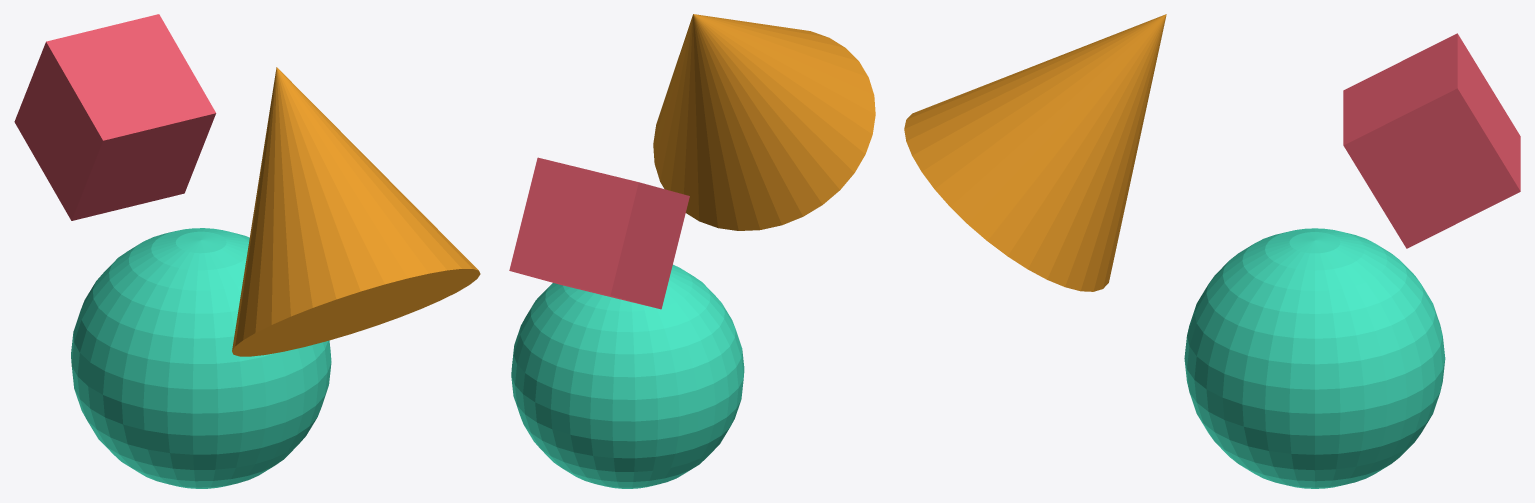
The picture shows the model from 3 angles, left to right: view 1: azimuth 30°, elevation 25°; view 2: azimuth 150°, elevation 25°; view 3: azimuth 270°, elevation 25°; orthographic projection. The views are drawn at different scales.
Parts seen in each view (by area): view 1: Sphere_4, Cone_3, Cube_0; view 2: Sphere_4, Cone_3, Cube_0; view 3: Sphere_4, Cone_3, Cube_0.
Part boxes in pixels (<box>): Sphere_4: <box>71,228,331,488</box>; Cone_3: <box>232,67,480,356</box>; Cube_0: <box>14,14,216,220</box>; Sphere_4: <box>511,264,744,488</box>; Cone_3: <box>653,14,875,230</box>; Cube_0: <box>509,157,689,309</box>; Sphere_4: <box>1184,228,1445,488</box>; Cone_3: <box>904,14,1166,291</box>; Cube_0: <box>1343,33,1520,248</box>.
Size of the model in its own units: 2.01 by 3.92 by 4.73.
